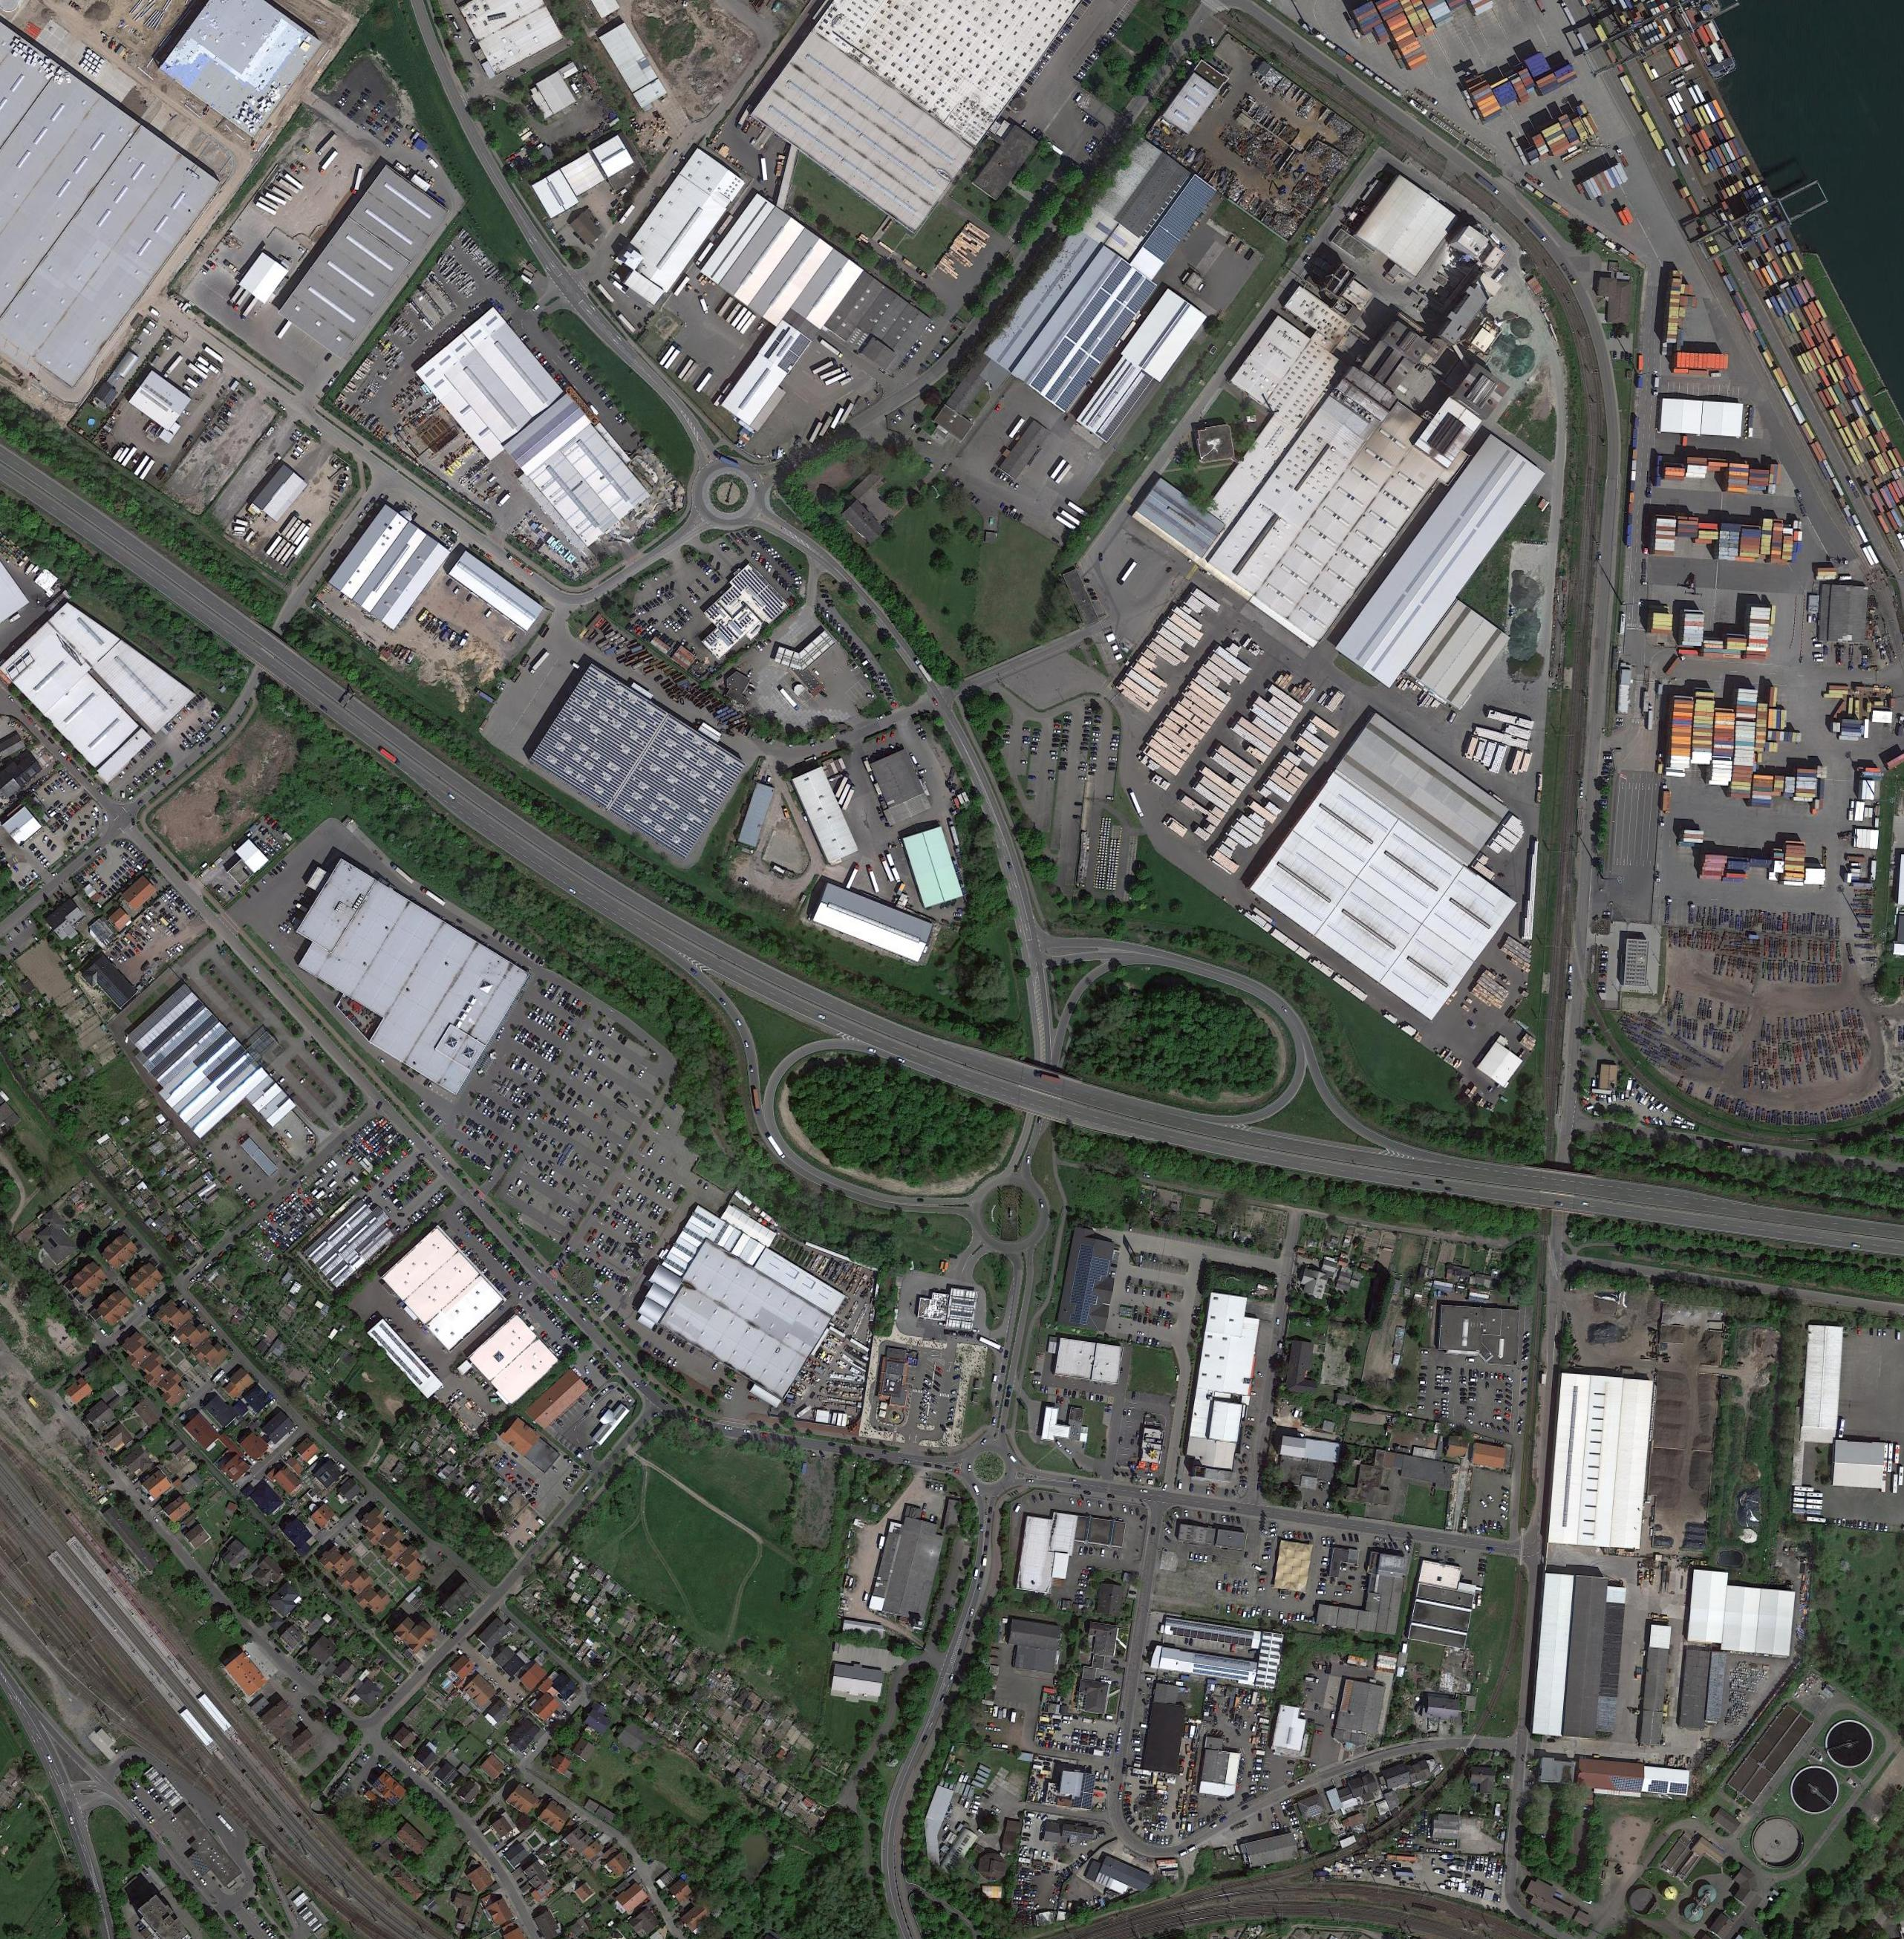ship: (1447, 1864, 1466, 1873), (1447, 1869, 1463, 1880), (1444, 1880, 1459, 1888), (1438, 1883, 1454, 1892), (1447, 1876, 1465, 1883), (1372, 1871, 1386, 1880), (1451, 1859, 1465, 1866), (1433, 1869, 1447, 1876), (1438, 1854, 1456, 1859), (1376, 1868, 1388, 1873), (1391, 1864, 1402, 1869)
